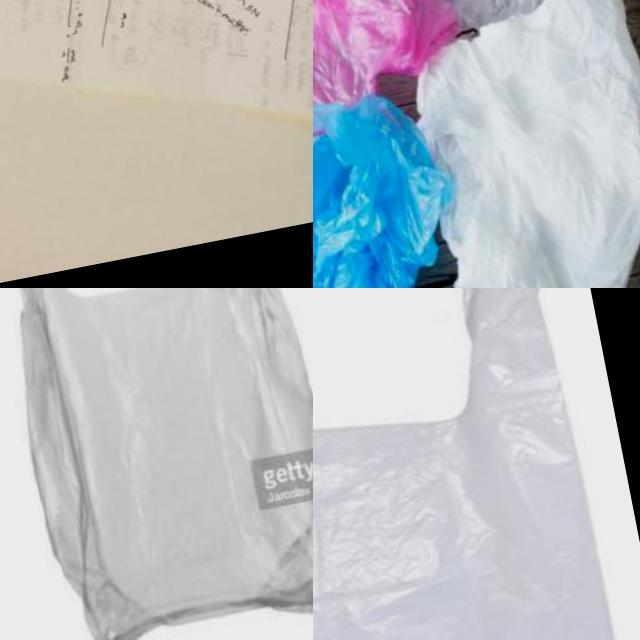papel: (0, 0, 313, 194)
sacola plástica: (313, 288, 640, 640), (0, 288, 313, 640), (399, 0, 640, 288), (313, 99, 472, 288)
